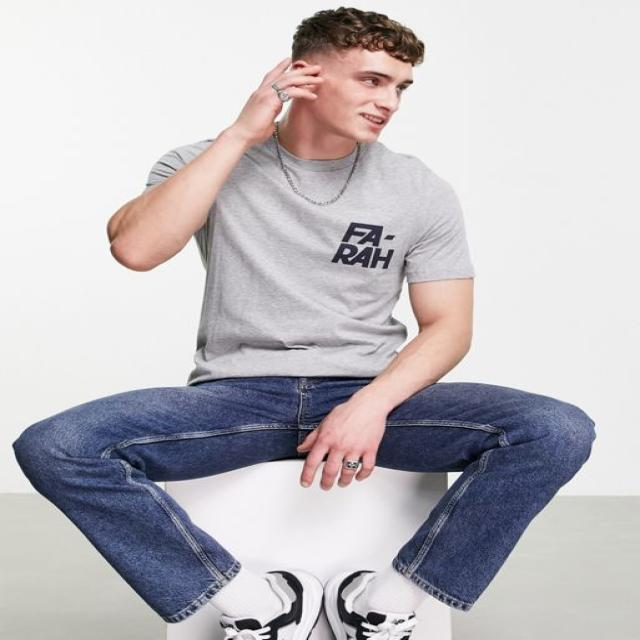tshirt: (140, 127, 479, 386)
